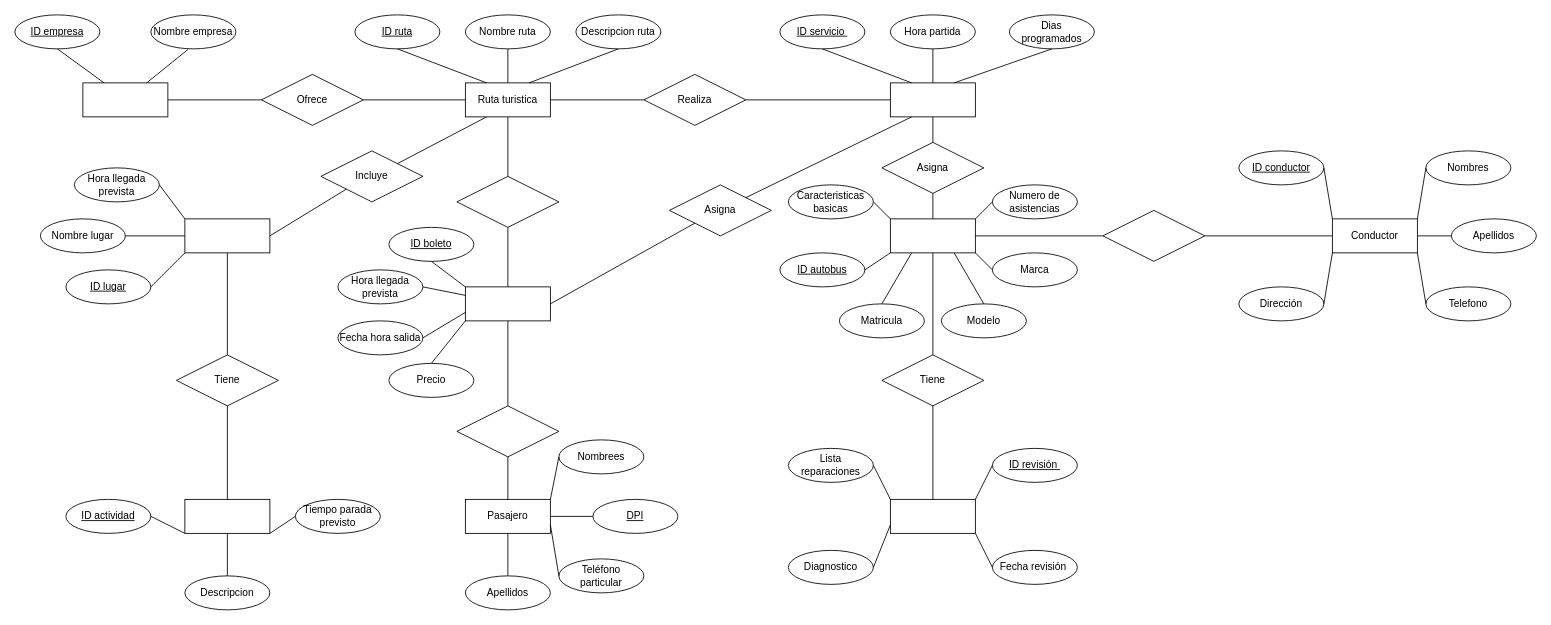
Image size: 1551x625. Some labels were removed from this diagram. The shapes that lost their labels are listed below. From the top down, each one's box as (x1, y1, x2, y2) in pixels, then its label:
(82, 82, 168, 117): Empresa de transporte
(890, 82, 975, 117): Servicio diario
(456, 176, 559, 227): Oferta
(184, 218, 270, 253): Lugar
(890, 218, 975, 253): Autobus
(1102, 210, 1205, 261): Conduce
(465, 286, 550, 321): Boleto
(456, 405, 559, 457): Contrata
(184, 499, 270, 533): Actividad
(890, 499, 975, 533): Revision
